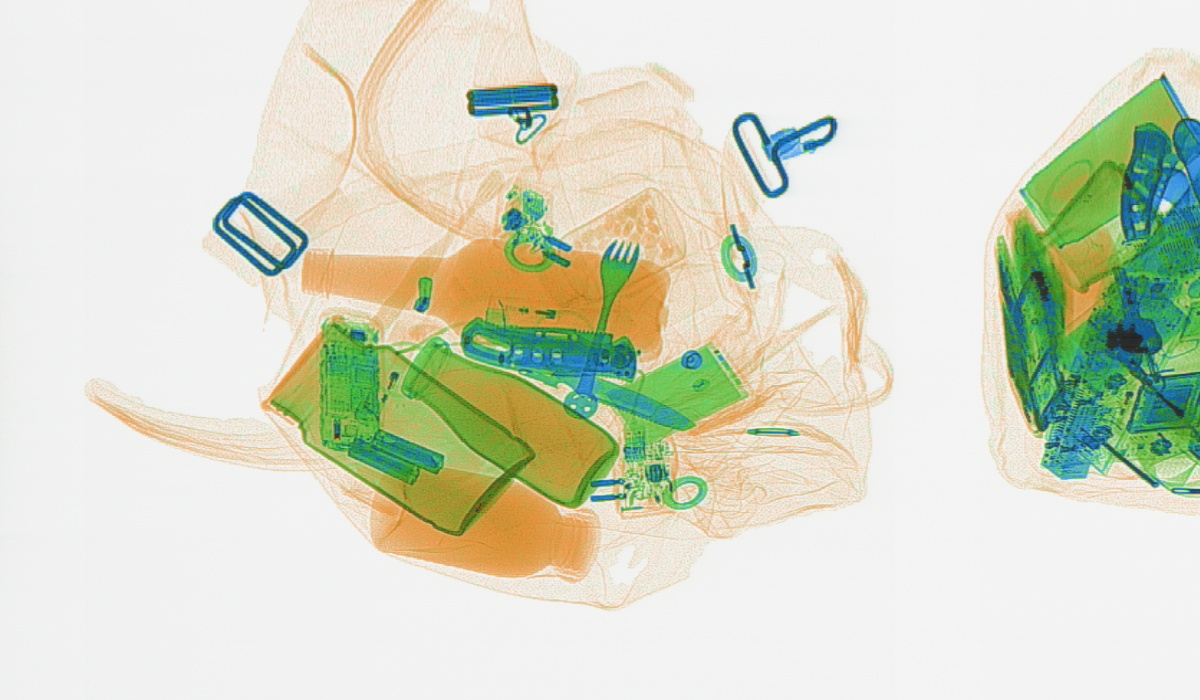knife: (381, 316, 699, 436), (456, 315, 641, 384), (1111, 120, 1180, 249)
lighter: (352, 320, 424, 429), (481, 293, 606, 337)
